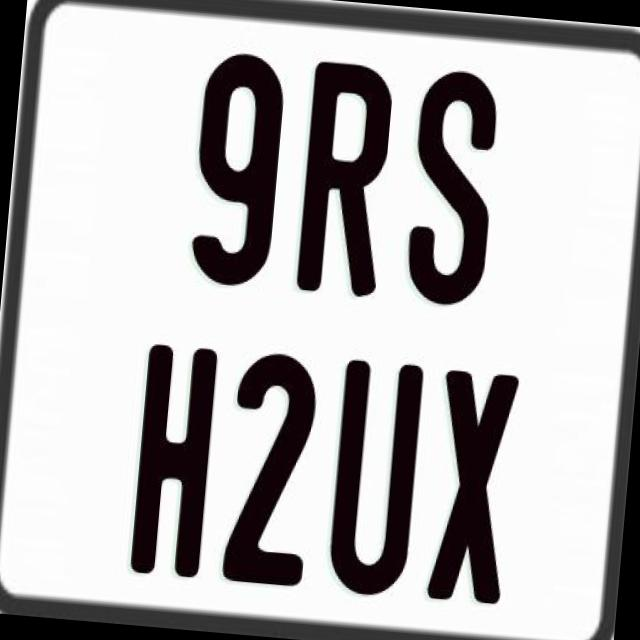2: (220, 347, 326, 587)
9: (183, 50, 287, 288)
H: (126, 340, 218, 579)
R: (296, 56, 402, 302)
S: (402, 66, 502, 306)
U: (326, 358, 424, 596)
X: (422, 366, 516, 600)
